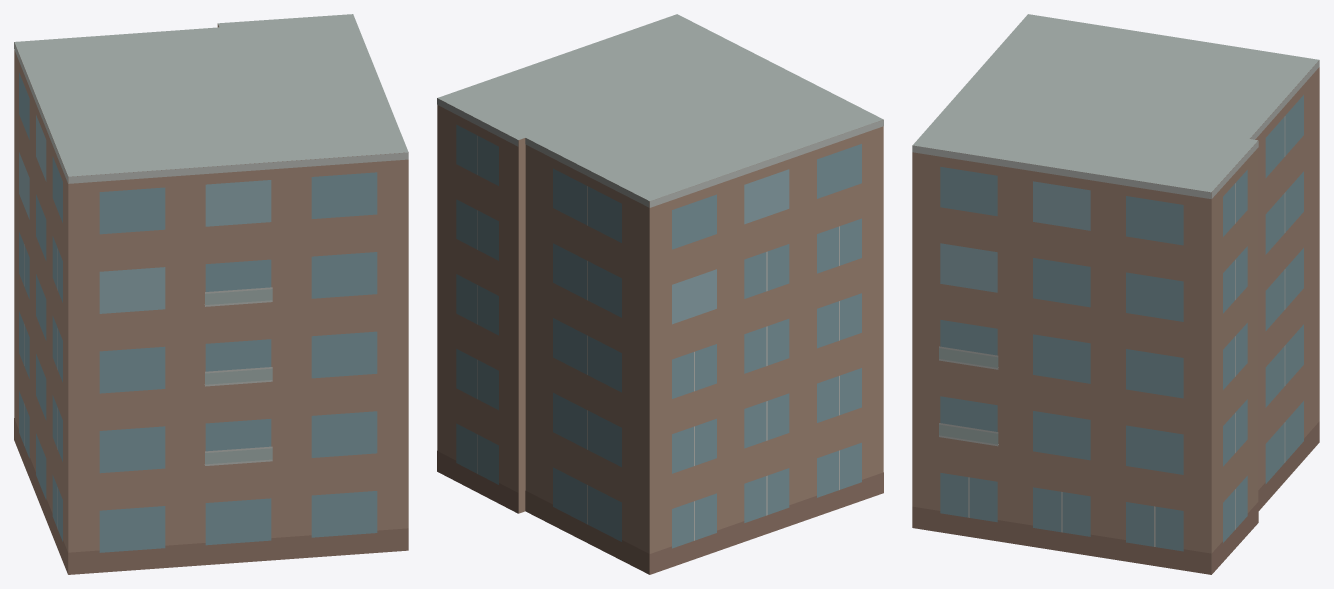
The model's file is survey-upis-33008962.glb.
3 renders of one model, left to right at view 1: azimuth 30°, elevation 25°; view 2: azimuth 150°, elevation 25°; view 3: azimuth 270°, elevation 25°, orthographic. The views are drawn at different scales.
Visible parts, largest first — view 1: survey-upis-33008962.tmp; view 2: survey-upis-33008962.tmp; view 3: survey-upis-33008962.tmp.
Boxes of the visible parts, bbox=[...] form: survey-upis-33008962.tmp: bbox=[14, 14, 408, 574]; survey-upis-33008962.tmp: bbox=[437, 14, 883, 574]; survey-upis-33008962.tmp: bbox=[912, 14, 1319, 574].
Bounding box in the file's own units: 13.61 × 13.6 × 13.13.
